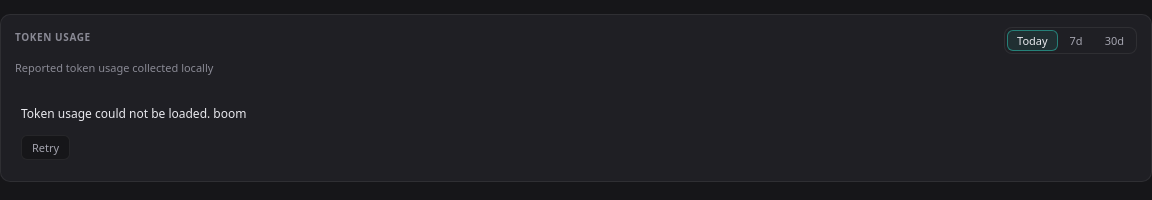
Test: token usage section › keeps the failure inside the section with a retry
Expected: the text "Token usage could not be loaded. boom" is shown, 21,105 -> 246,122
Click the button "Retry".
click(46, 147)  # box 21,135 -> 70,160
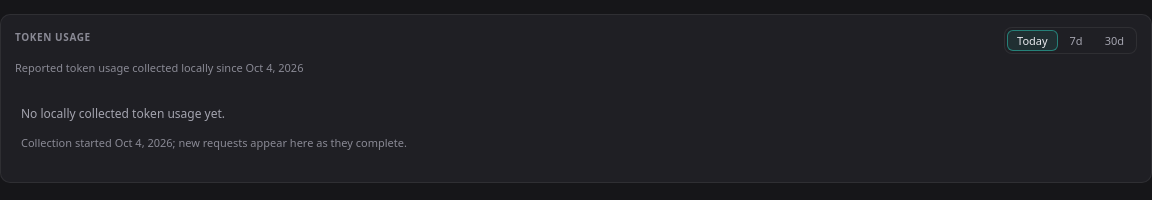
Result: the text "No locally collected token usage yet." is shown at 21,105 -> 225,122
